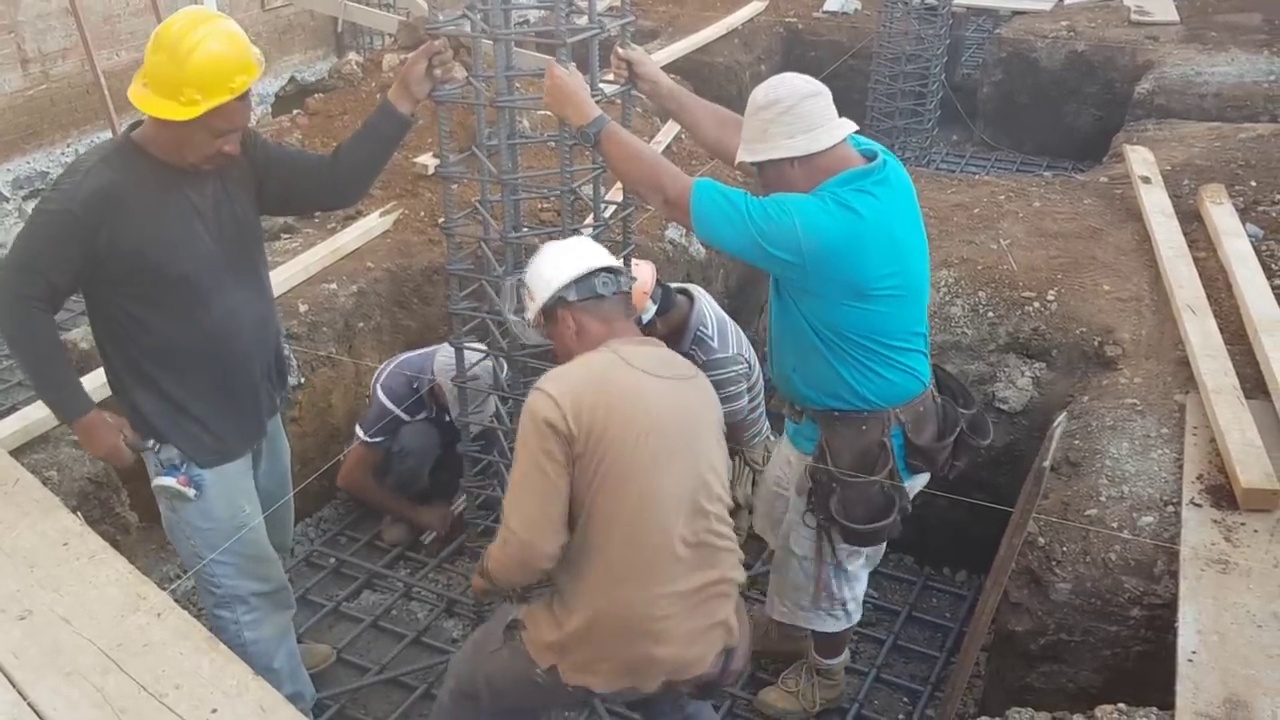helmet: (122, 10, 265, 124), (521, 241, 625, 330)
helmet-off: (731, 68, 869, 200), (429, 344, 504, 440)
helmet-on: (118, 7, 259, 170), (521, 235, 647, 366), (628, 255, 703, 348)
person: (11, 0, 465, 673), (539, 49, 931, 716), (450, 240, 771, 720), (628, 250, 777, 545), (344, 338, 505, 551)
